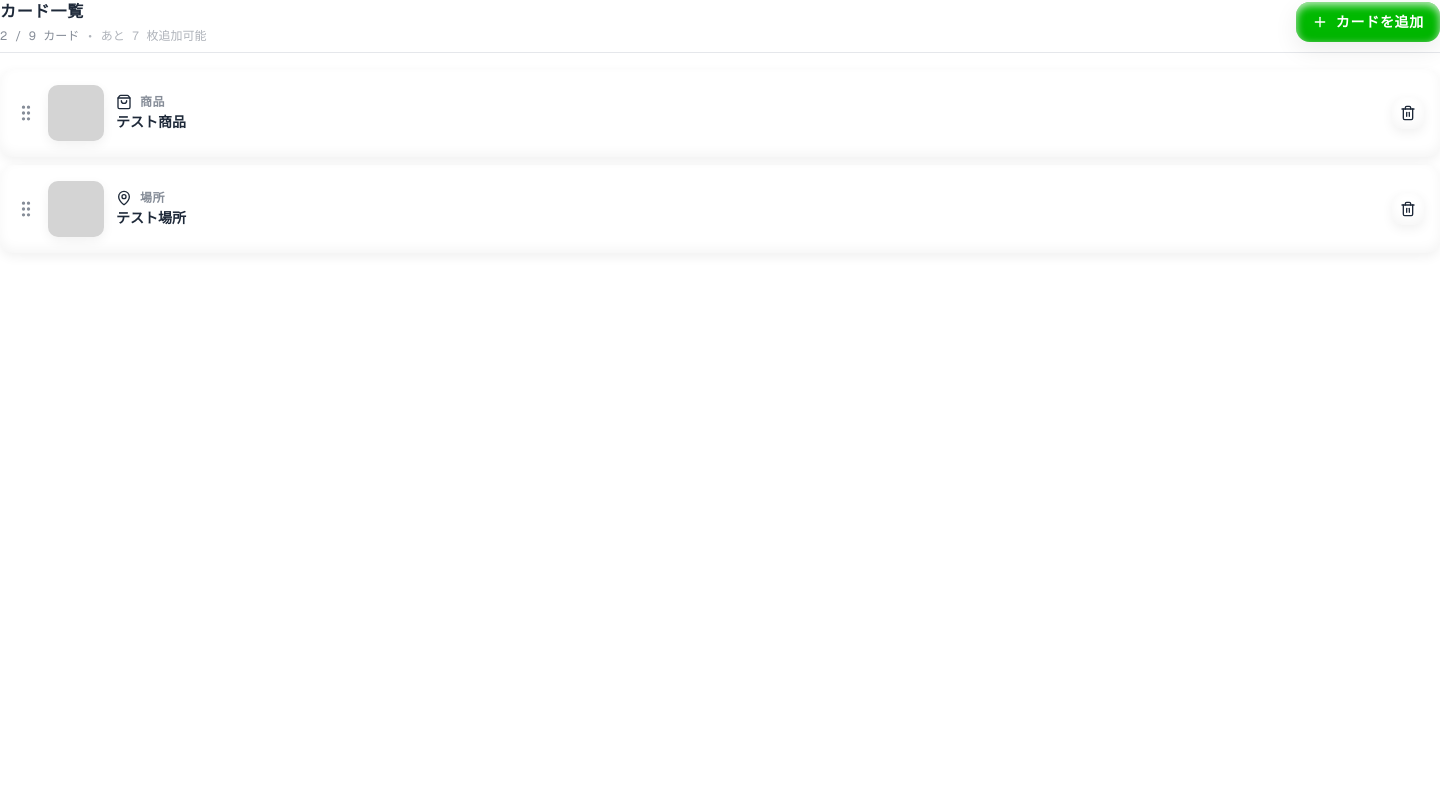
it: CardList › should show confirmation dialog when delete is clicked
Click the button named "カードを削除" in the row of "テスト商品": (1408, 113) [1392, 97, 1424, 129]
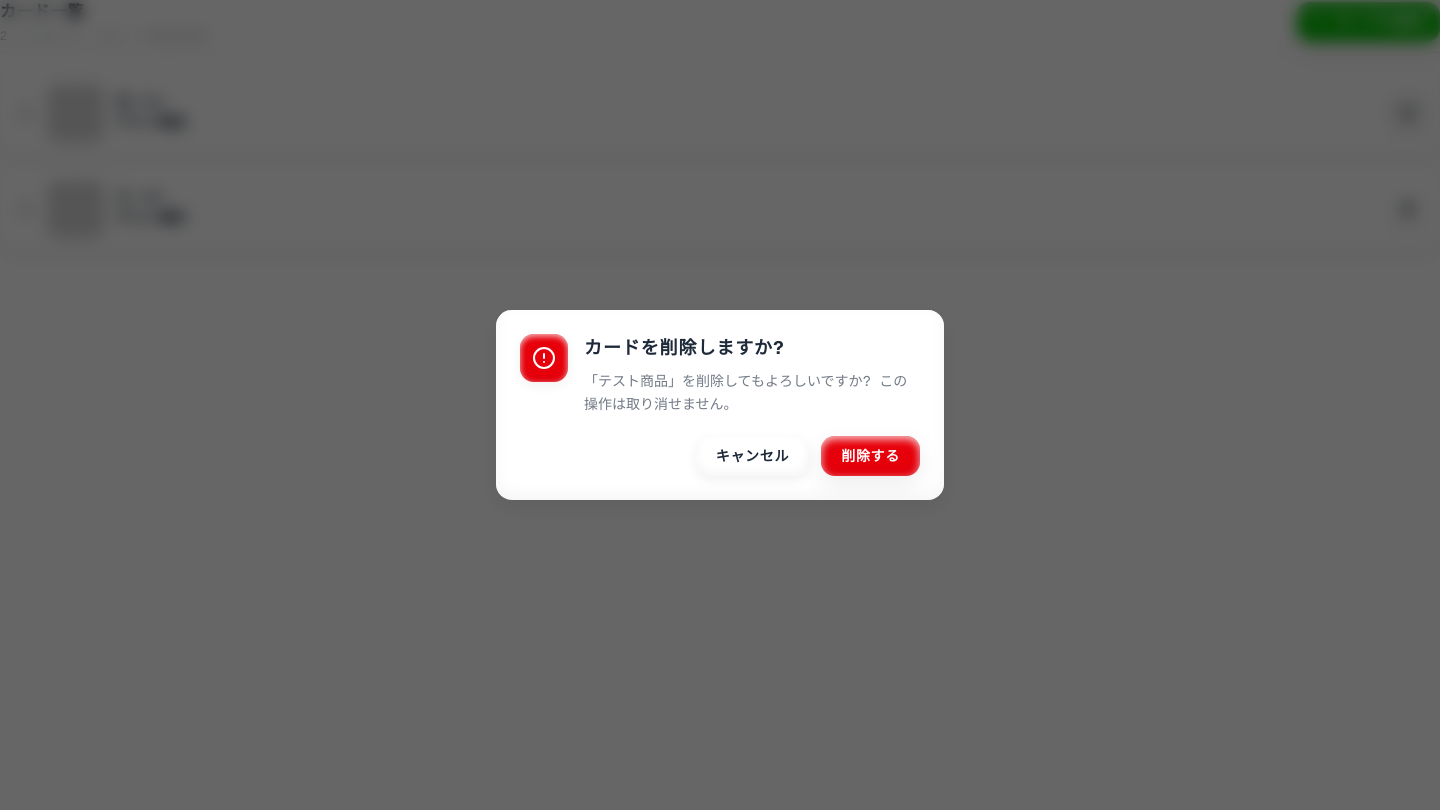
Expected: the heading "カードを削除しますか?" is shown, [584, 336, 784, 359]
Expected: the text "「テスト商品」を削除してもよろしいですか? この操作は取り消せません。" is shown, [584, 370, 920, 416]
